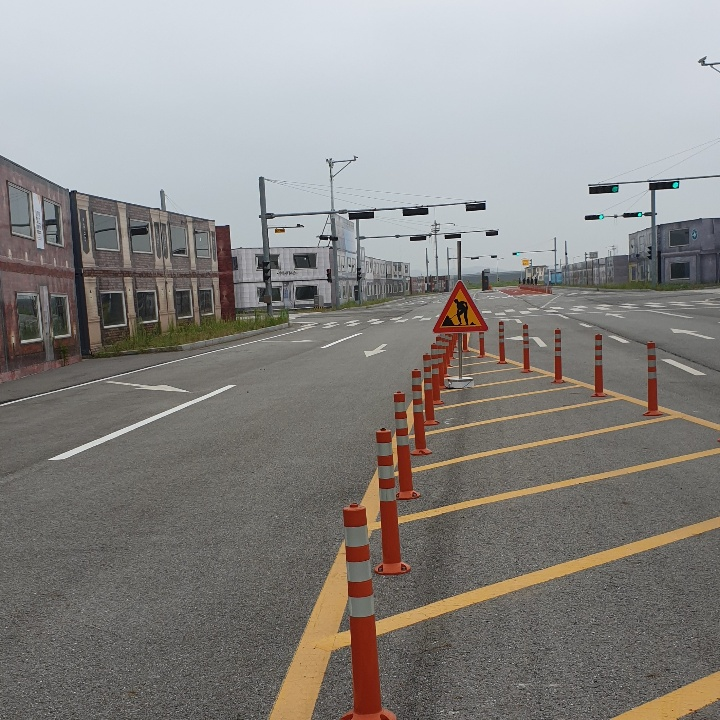const: (440, 292, 481, 325)
